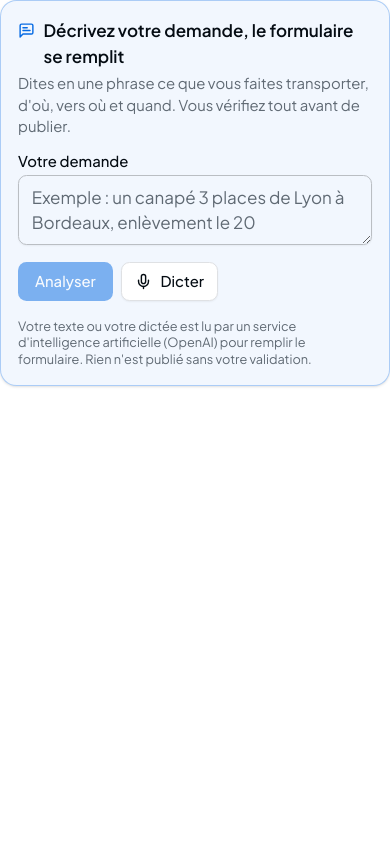
RequestAssistant › offers nothing to fill when nothing was recognised
This screenshot has width=390, height=844.
Step 1. Replace the text in the text box with "quel temps fait-il ?" → point(195, 210), box [18, 175, 372, 245]
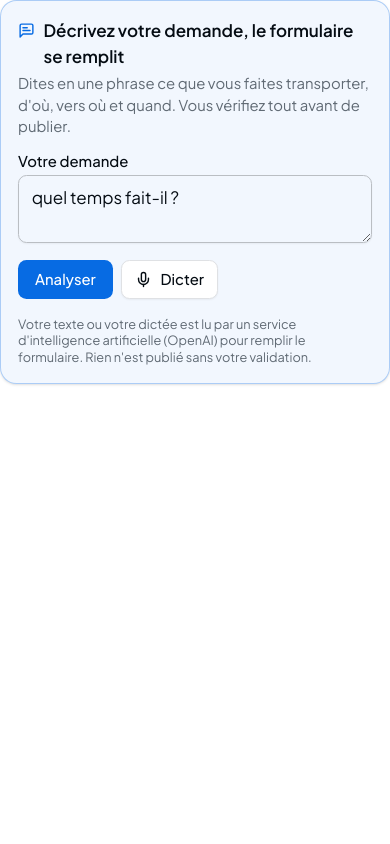
Step 2. Click the button "Analyser" → point(65, 279), box [18, 260, 113, 299]
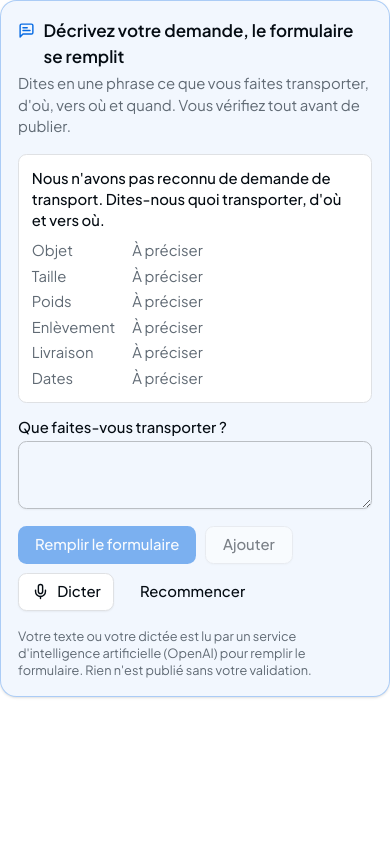
Expected: the text "Nous n'avons pas reconnu de demande de transport. Dites-nous quoi transporter, d'où et vers où." is shown, [32, 169, 342, 229]
Expected: the button "Remplir le formulaire" is disabled, [18, 526, 196, 564]
